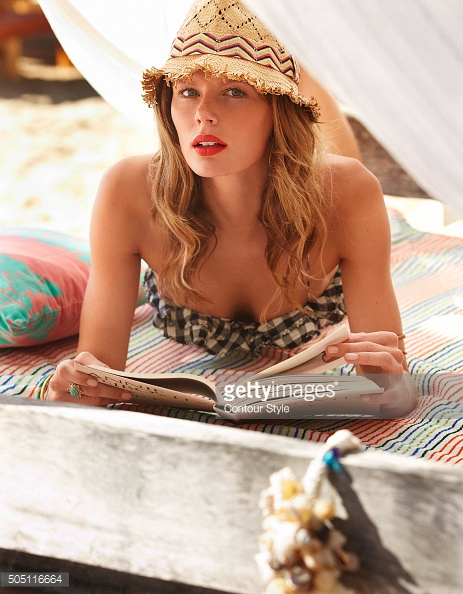deitado: (0, 0, 445, 474)
